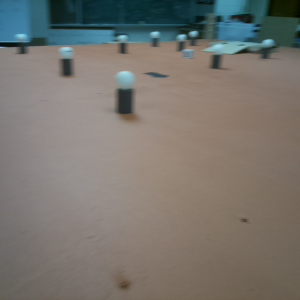obstacle: (115, 70, 136, 114), (59, 46, 74, 78), (209, 45, 221, 69), (16, 33, 28, 56), (118, 33, 128, 57), (262, 38, 271, 59), (176, 34, 185, 52), (150, 31, 160, 46), (190, 31, 197, 46)
